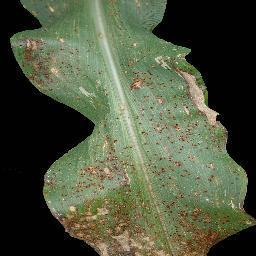Corn_Common_Rust: (135, 147, 256, 256), (39, 136, 135, 256), (147, 43, 224, 148), (7, 0, 69, 103), (117, 32, 146, 65), (100, 103, 127, 136), (121, 64, 146, 95), (136, 98, 148, 146), (80, 65, 105, 84), (70, 43, 79, 85), (106, 0, 122, 19), (98, 84, 114, 101), (87, 39, 100, 54), (73, 86, 96, 94)
